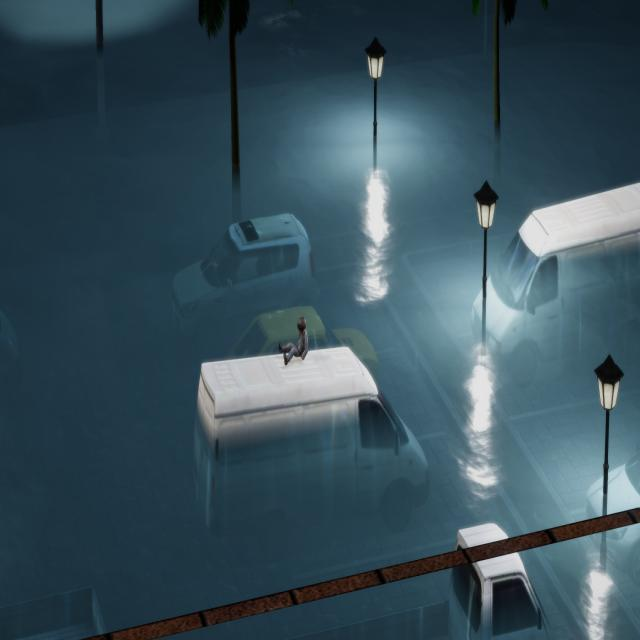Human: (274, 309, 314, 372)
